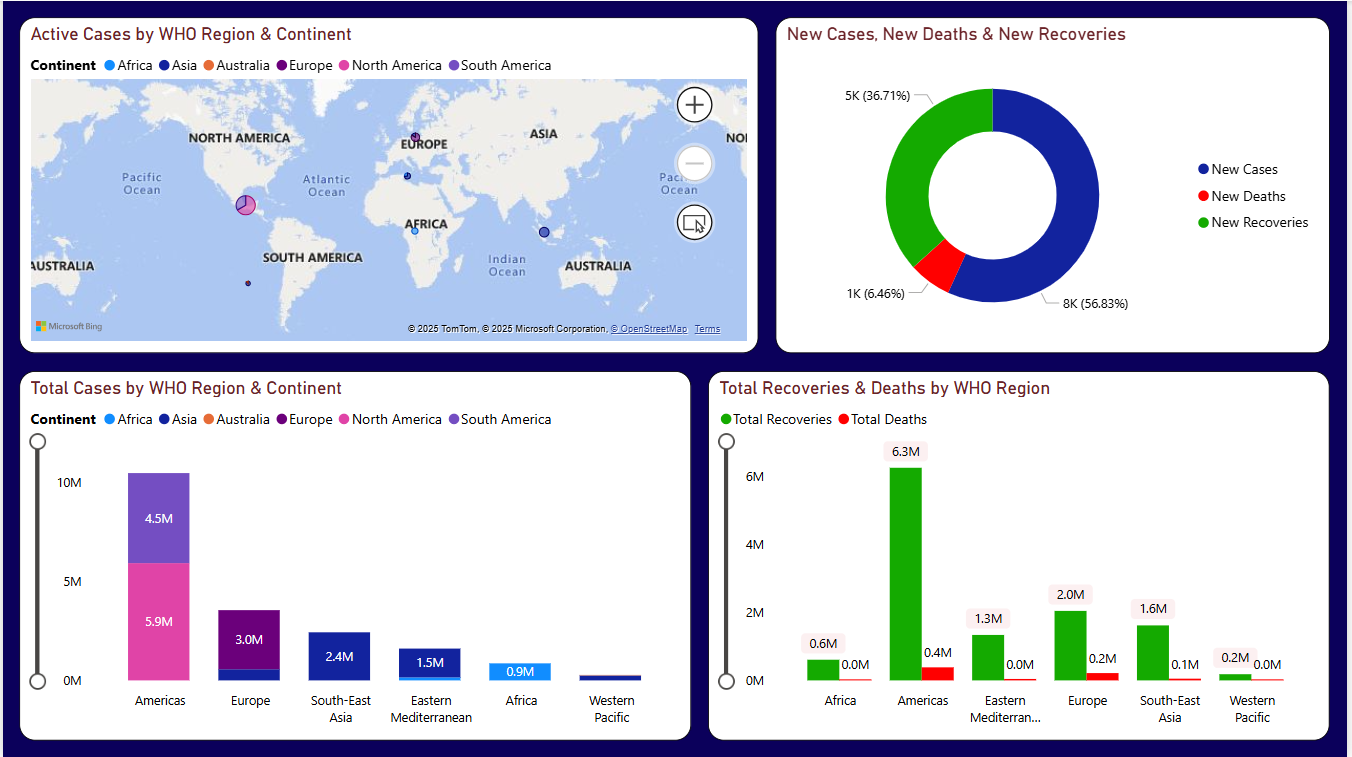

The page's visual inventory and layout, read from the dashboard file:
{"tool":"powerbi","page":{"name":"Regional WHO Insights","canvas":[1280,720],"ordinal":2},"visuals":[{"type":"map","title":"Active Cases by WHO Region & Continent","fields":{"Category":["LatestWorldometer.WHO_Region Hierarchy.WHO_Region","LatestWorldometer.WHO_Region Hierarchy.Country"],"Series":["LatestWorldometer.Continent"],"Size":["View.Active Cases"]},"box":[16,16,704,320],"z":0},{"type":"columnChart","title":"Total Cases by WHO Region & Continent","fields":{"Category":["LatestWorldometer.WHO_Region"],"Series":["LatestWorldometer.Continent"],"Y":["View.Total Cases"]},"box":[16,352,640,352],"z":1000},{"type":"clusteredColumnChart","title":"Total Recoveries &  Deaths by WHO Region","fields":{"Category":["LatestWorldometer.WHO_Region Hierarchy.WHO_Region","LatestWorldometer.WHO_Region Hierarchy.Country"],"Y":["View.Total Recoveries","View.Total Deaths"]},"box":[672,352,592,352],"z":2000},{"type":"donutChart","title":"New Cases, New Deaths & New Recoveries","fields":{"Y":["View.New Cases","View.New Deaths","View.New Recoveries"]},"box":[736,16,528,320],"z":3000}]}

Visuals, with their boxes in screenshot pixels (x1, y1, x2, y2), scaled from the page's 1280x720 canvas onto the 1352x757 screenshot:
"Active Cases by WHO Region & Continent" map: x1=17, y1=17, x2=760, y2=353
"Total Cases by WHO Region & Continent" columnChart: x1=17, y1=370, x2=693, y2=740
"Total Recoveries &  Deaths by WHO Region" clusteredColumnChart: x1=710, y1=370, x2=1335, y2=740
"New Cases, New Deaths & New Recoveries" donutChart: x1=777, y1=17, x2=1335, y2=353
